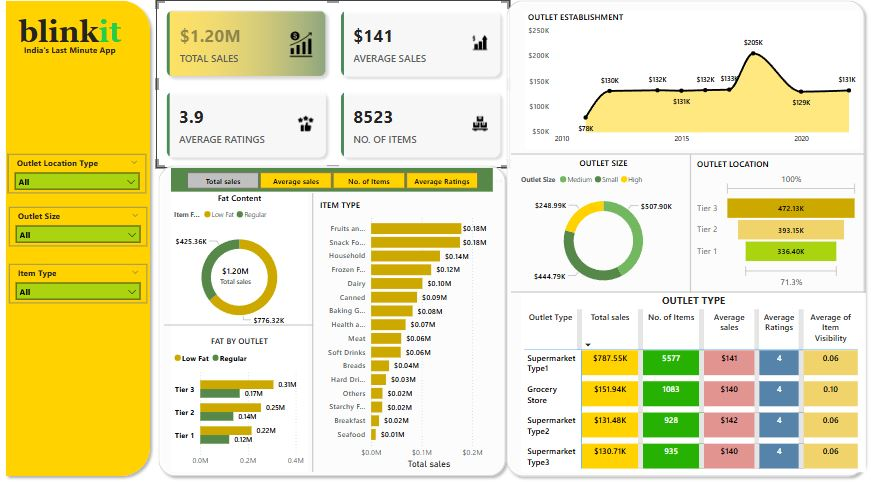

The dashboard page shown, as its layout file describes it:
{"tool":"powerbi","page":{"name":"Page 1","canvas":[1400,800],"ordinal":0},"visuals":[{"type":"shape","box":[0,0,250,781.7],"z":0},{"type":"textbox","box":[13.3,25,198.3,65],"z":1000},{"type":"textbox","box":[25,73.3,186.7,31.7],"z":2000},{"type":"cardVisual","fields":{"Data":["BlinkIT Grocery Data.Total sales","BlinkIT Grocery Data.Average sales","BlinkIT Grocery Data.Average Ratings","BlinkIT Grocery Data.No. of Items"]},"box":[250,8.3,570,270],"z":3000},{"type":"shape","box":[245,265,575,516.7],"z":4000},{"type":"donutChart","title":"Fat Content","fields":{"Y":["BlinkIT Grocery Data.Total sales"],"Category":["BlinkIT Grocery Data.Item Fat Content"]},"box":[275,316.7,220,230],"z":5000},{"type":"slicer","fields":{"Values":["Matrix.Matrix"]},"box":[275,278.3,516.7,38.3],"z":6000},{"type":"cardVisual","fields":{"Data":["BlinkIT Grocery Data.Total sales"]},"box":[330,418.3,98.3,55],"z":7000},{"type":"clusteredBarChart","title":"FAT BY OUTLET","fields":{"Y":["Sum(BlinkIT Grocery Data.Sales)"],"Category":["BlinkIT Grocery Data.Outlet Location Type"],"Series":["BlinkIT Grocery Data.Item Fat Content"]},"box":[275,546.7,220,220],"z":8000},{"type":"shape","box":[263.3,523.3,240,13.3],"z":9000},{"type":"shape","box":[495,318.3,15,448.3],"z":10000},{"type":"barChart","title":"ITEM TYPE","fields":{"Y":["BlinkIT Grocery Data.Total sales"],"Category":["BlinkIT Grocery Data.Item Type"]},"box":[510,328.3,295,438.3],"z":11000},{"type":"shape","box":[808,17.7,592.8,782.3],"z":12000},{"type":"lineChart","title":"OUTLET ESTABLISHMENT","fields":{"Y":["BlinkIT Grocery Data.Total sales"],"Category":["BlinkIT Grocery Data.Outlet Establishment Year"]},"box":[843.4,25.7,538.2,223.3],"z":13000},{"type":"shape","box":[820.9,249,570.3,12.9],"z":14000},{"type":"donutChart","title":"OUTLET SIZE","fields":{"Y":["BlinkIT Grocery Data.Total sales"],"Category":["BlinkIT Grocery Data.Outlet Size"]},"box":[832.1,260.2,274.7,224.9],"z":14001},{"type":"shape","box":[1100.4,255.4,17.7,239.4],"z":14002},{"type":"funnel","title":"OUTLET LOCATION","fields":{"Category":["BlinkIT Grocery Data.Outlet Location Type"],"Y":["Sum(BlinkIT Grocery Data.Sales)"]},"box":[1114.9,261.8,268.3,213.7],"z":14003},{"type":"shape","box":[820.9,469.1,570.3,16.1],"z":14004},{"type":"pivotTable","title":"OUTLET TYPE","fields":{"Rows":["BlinkIT Grocery Data.Outlet Type"],"Values":["BlinkIT Grocery Data.Total sales","BlinkIT Grocery Data.No. of Items","BlinkIT Grocery Data.Average sales","BlinkIT Grocery Data.Average Ratings","Avg(BlinkIT Grocery Data.Item Visibility)"]},"box":[836.9,478.7,554.2,287.6],"z":14005},{"type":"slicer","fields":{"Values":["BlinkIT Grocery Data.Outlet Location Type"]},"box":[12.9,255.4,221.7,62.7],"z":14006},{"type":"slicer","fields":{"Values":["BlinkIT Grocery Data.Outlet Size"]},"box":[14.5,340.6,221.7,62.7],"z":14007},{"type":"slicer","fields":{"Values":["BlinkIT Grocery Data.Item Type"]},"box":[14.5,432.1,221.7,62.7],"z":14008}]}

Visuals, with their boxes on the page's 1400x800 design canvas (x1, y1, x2, y2). These are canvas units, not pixel positions in the 871x482 screenshot, which may show the page scaled, cropped or inside an application window:
shape: 0 0 250 782
textbox: 13 25 212 90
textbox: 25 73 212 105
cardVisual - BlinkIT Grocery Data.Total sales x BlinkIT Grocery Data.Average sales: 250 8 820 278
shape: 245 265 820 782
"Fat Content" donutChart: 275 317 495 547
slicer - Matrix.Matrix: 275 278 792 317
cardVisual - BlinkIT Grocery Data.Total sales: 330 418 428 473
"FAT BY OUTLET" clusteredBarChart: 275 547 495 767
shape: 263 523 503 537
shape: 495 318 510 767
"ITEM TYPE" barChart: 510 328 805 767
shape: 808 18 1401 800
"OUTLET ESTABLISHMENT" lineChart: 843 26 1382 249
shape: 821 249 1391 262
"OUTLET SIZE" donutChart: 832 260 1107 485
shape: 1100 255 1118 495
"OUTLET LOCATION" funnel: 1115 262 1383 476
shape: 821 469 1391 485
"OUTLET TYPE" pivotTable: 837 479 1391 766
slicer - BlinkIT Grocery Data.Outlet Location Type: 13 255 235 318
slicer - BlinkIT Grocery Data.Outlet Size: 14 341 236 403
slicer - BlinkIT Grocery Data.Item Type: 14 432 236 495
